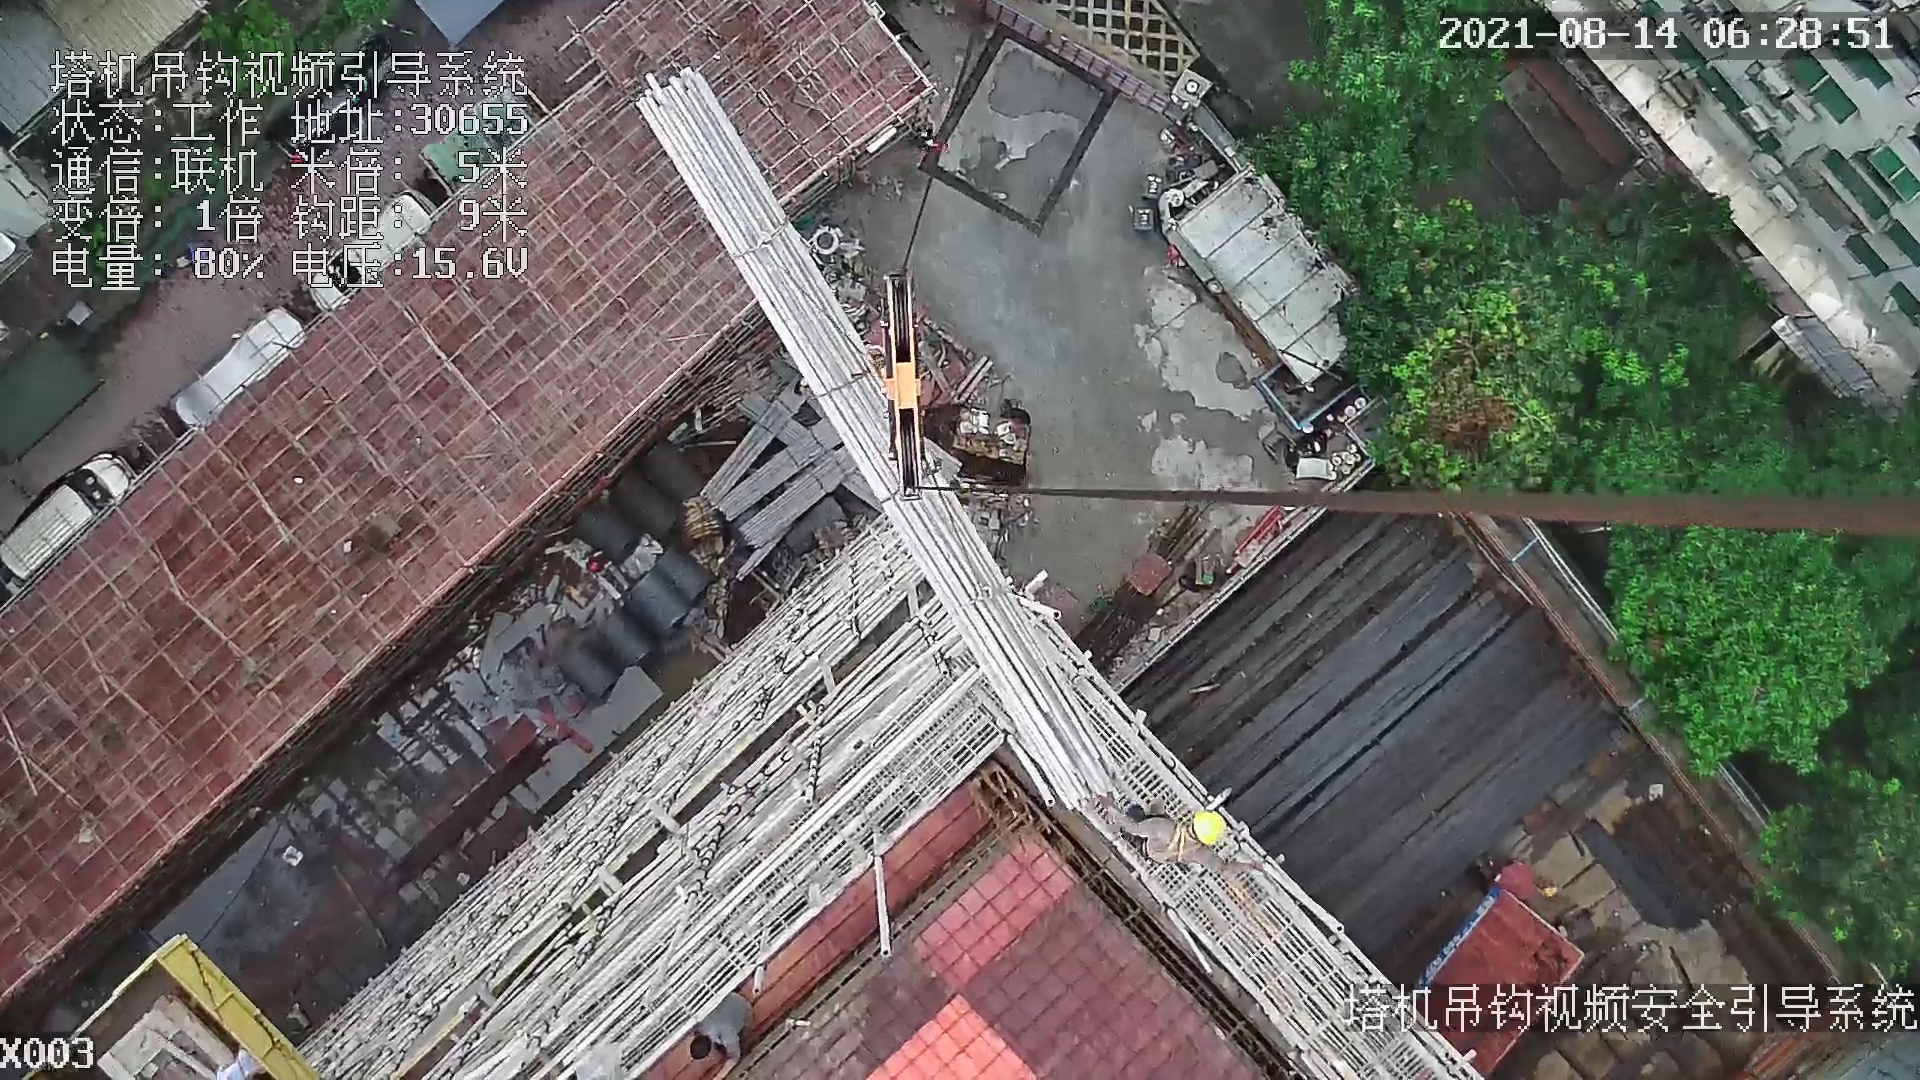helmet: (1188, 809, 1227, 856)
hook: (881, 267, 928, 500)
person: (1093, 792, 1264, 878)
